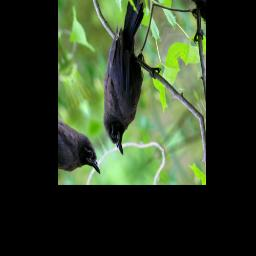Crow: (65, 0, 190, 159)
